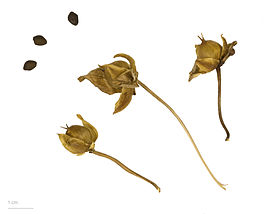haagwinde: (75, 53, 153, 116)
